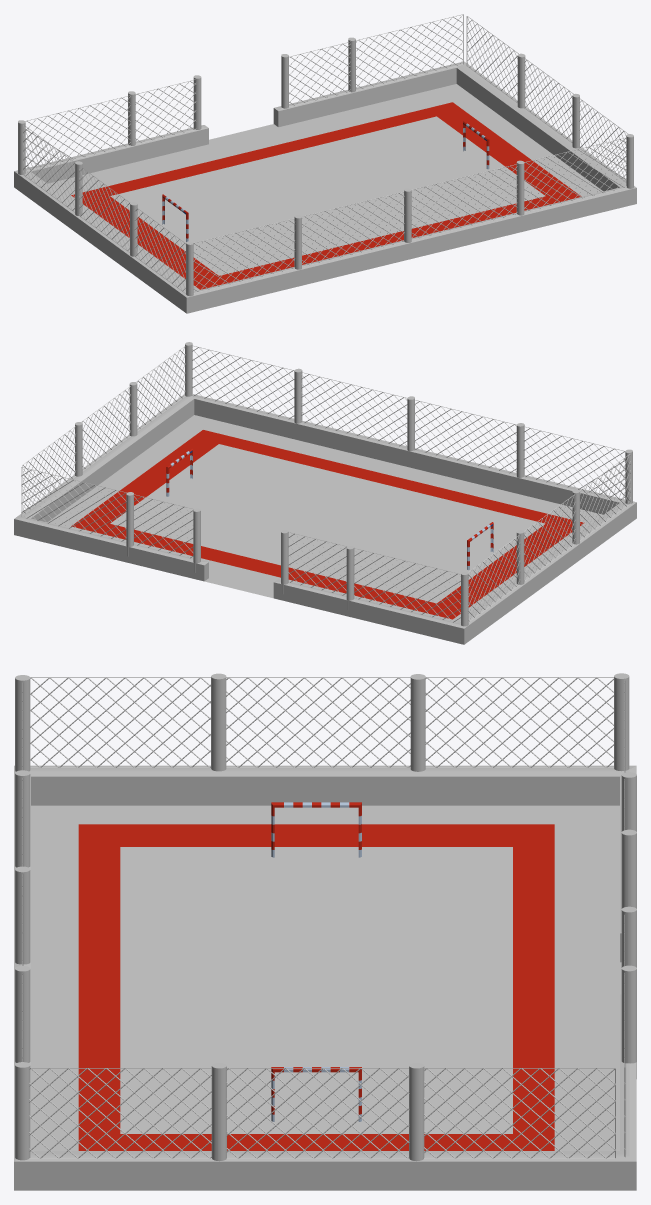
File: cancaha de fulbo prototipo 1.fbx
3 renders of one model, top to bottom at view 1: azimuth 30°, elevation 25°; view 2: azimuth 150°, elevation 25°; view 3: azimuth 270°, elevation 25°, orthographic. The views are drawn at different scales.
Parts seen in each view (by area): view 1: Plane.002, Plane, Plane.001, Plane.003, Plane.006, Plane.004, Plane.005, Cylinder.001, Cylinder.009, Cylinder.013, Cylinder.004, Cylinder.011 (+8 smaller); view 2: Plane.002, Plane, Plane.001, Plane.003, Plane.006, Plane.004, Plane.005, Cylinder.008, Cylinder.003, Cylinder.001, Cylinder.006, Cylinder.014 (+9 smaller); view 3: Plane, Plane.002, Plane.001, Plane.005, Plane.004, Cylinder.011, Cylinder.002, Cylinder.005, Cylinder.006, Cylinder.007, Cylinder, Cylinder.003 (+11 smaller).
Part boxes in pixels (left/top/right/bottom): Plane.002: left=14, top=61, right=636, bottom=313; Plane: left=110, top=116, right=545, bottom=275; Plane.001: left=71, top=102, right=581, bottom=289; Plane.003: left=193, top=137, right=626, bottom=293; Plane.006: left=25, top=14, right=463, bottom=171; Plane.004: left=23, top=125, right=185, bottom=293; Plane.005: left=466, top=16, right=627, bottom=182; Cylinder.001: left=516, top=160, right=524, bottom=215; Cylinder.009: left=193, top=75, right=201, bottom=129; Cylinder.013: left=517, top=53, right=525, bottom=108; Cylinder.004: left=186, top=241, right=193, bottom=296; Cylinder.011: left=348, top=37, right=355, bottom=92; Plane.002: left=14, top=394, right=636, bottom=644; Plane: left=110, top=444, right=545, bottom=603; Plane.001: left=71, top=430, right=584, bottom=619; Plane.003: left=192, top=345, right=625, bottom=501; Plane.006: left=21, top=467, right=460, bottom=624; Plane.004: left=468, top=454, right=630, bottom=621; Plane.005: left=22, top=346, right=185, bottom=514; Cylinder.008: left=346, top=545, right=354, bottom=610; Cylinder.003: left=516, top=423, right=524, bottom=477; Cylinder.001: left=294, top=368, right=302, bottom=423; Cylinder.006: left=516, top=530, right=524, bottom=584; Cylinder.014: left=129, top=382, right=137, bottom=436; Plane: left=120, top=847, right=512, bottom=1133; Plane.002: left=14, top=765, right=636, bottom=1190; Plane.001: left=78, top=824, right=554, bottom=1150; Plane.005: left=29, top=1068, right=615, bottom=1158; Plane.004: left=30, top=677, right=613, bottom=767; Cylinder.011: left=621, top=965, right=636, bottom=1078; Cylinder.002: left=15, top=866, right=30, bottom=964; Cylinder.005: left=211, top=673, right=226, bottom=771; Cylinder.006: left=410, top=674, right=425, bottom=771; Cylinder.007: left=614, top=673, right=629, bottom=771; Cylinder: left=15, top=1062, right=30, bottom=1160; Cylinder.003: left=15, top=770, right=30, bottom=867.
Size of the model in its own units: 3100 by 445 by 2062.
